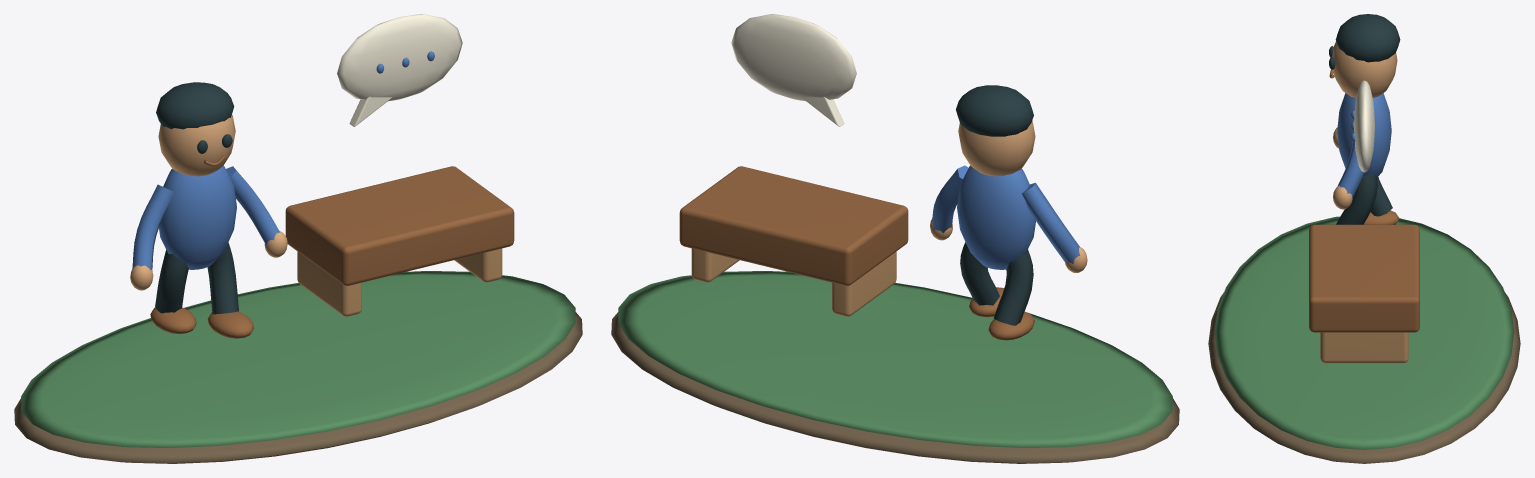
Rendered from complete-second-replacement-display.glb.
3 renders of one model, left to right at view 1: azimuth 30°, elevation 25°; view 2: azimuth 150°, elevation 25°; view 3: azimuth 270°, elevation 25°, orthographic. The views are drawn at different scales.
Visible parts, largest first — view 1: complete-second-replacement-display_surface_01, complete-second-replacement-display_surface_04, complete-second-replacement-display_surface_00, complete-second-replacement-display_surface_05, complete-second-replacement-display_surface_07, complete-second-replacement-display_surface_03, complete-second-replacement-display_surface_02, complete-second-replacement-display_surface_06; view 2: complete-second-replacement-display_surface_01, complete-second-replacement-display_surface_04, complete-second-replacement-display_surface_00, complete-second-replacement-display_surface_05, complete-second-replacement-display_surface_07, complete-second-replacement-display_surface_03, complete-second-replacement-display_surface_02, complete-second-replacement-display_surface_06; view 3: complete-second-replacement-display_surface_01, complete-second-replacement-display_surface_04, complete-second-replacement-display_surface_00, complete-second-replacement-display_surface_03, complete-second-replacement-display_surface_05, complete-second-replacement-display_surface_06, complete-second-replacement-display_surface_02, complete-second-replacement-display_surface_07.
Part boxes in pixels (bbox=[...]): complete-second-replacement-display_surface_01: bbox=[21, 271, 575, 447]; complete-second-replacement-display_surface_04: bbox=[150, 156, 514, 338]; complete-second-replacement-display_surface_00: bbox=[14, 312, 582, 463]; complete-second-replacement-display_surface_05: bbox=[132, 51, 434, 270]; complete-second-replacement-display_surface_07: bbox=[337, 14, 462, 126]; complete-second-replacement-display_surface_03: bbox=[155, 82, 238, 314]; complete-second-replacement-display_surface_02: bbox=[130, 115, 287, 290]; complete-second-replacement-display_surface_06: bbox=[297, 248, 502, 316]; complete-second-replacement-display_surface_01: bbox=[618, 271, 1172, 447]; complete-second-replacement-display_surface_04: bbox=[679, 166, 1034, 340]; complete-second-replacement-display_surface_00: bbox=[611, 312, 1179, 463]; complete-second-replacement-display_surface_05: bbox=[932, 165, 1080, 269]; complete-second-replacement-display_surface_07: bbox=[731, 14, 856, 126]; complete-second-replacement-display_surface_03: bbox=[956, 85, 1033, 325]; complete-second-replacement-display_surface_02: bbox=[930, 120, 1087, 272]; complete-second-replacement-display_surface_06: bbox=[691, 248, 896, 316]; complete-second-replacement-display_surface_01: bbox=[1214, 216, 1514, 449]; complete-second-replacement-display_surface_04: bbox=[1309, 69, 1419, 332]; complete-second-replacement-display_surface_00: bbox=[1208, 292, 1520, 463]; complete-second-replacement-display_surface_03: bbox=[1329, 14, 1400, 224]; complete-second-replacement-display_surface_05: bbox=[1337, 93, 1391, 198]; complete-second-replacement-display_surface_06: bbox=[1320, 332, 1408, 363]; complete-second-replacement-display_surface_02: bbox=[1332, 41, 1397, 209]; complete-second-replacement-display_surface_07: bbox=[1354, 80, 1374, 172].
Size of the model in its own units: 4.56 by 2.78 by 2.5.
